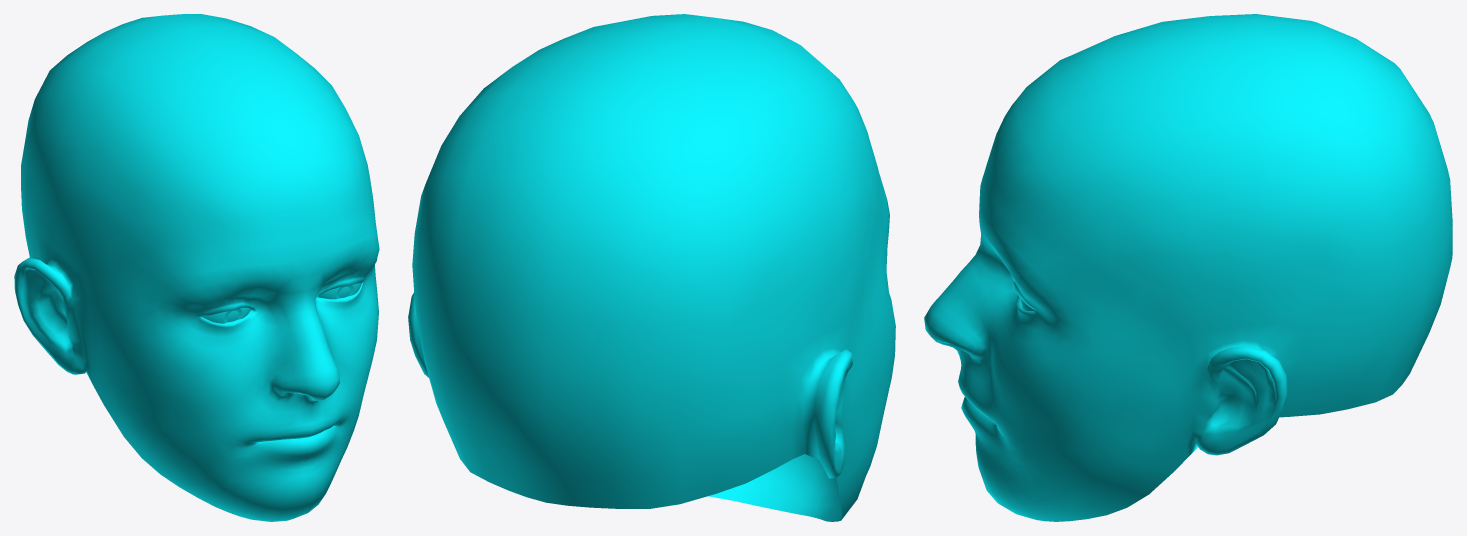
Rendered from facecap.glb.
3 views of the same model, side by side, from view 1: azimuth 30°, elevation 25°; view 2: azimuth 150°, elevation 25°; view 3: azimuth 270°, elevation 25° (orthographic). The views are drawn at different scales.
Parts seen in each view (by area): view 1: head, eyeLeft; view 2: head; view 3: head.
Part boxes in pixels (left/top/right/bottom): head: left=14, top=14, right=379, bottom=521; eyeLeft: left=201, top=307, right=250, bottom=323; head: left=408, top=14, right=895, bottom=521; head: left=924, top=14, right=1452, bottom=521.
Size of the model in its own units: 1.9 by 2.34 by 2.36.
